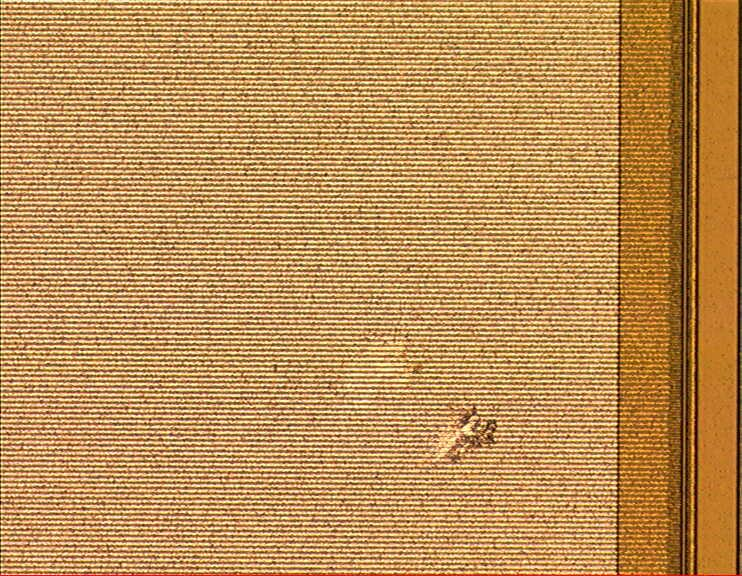SCRATCH: (323, 332, 511, 472)
